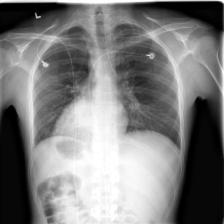normal: (28, 21, 184, 154)
